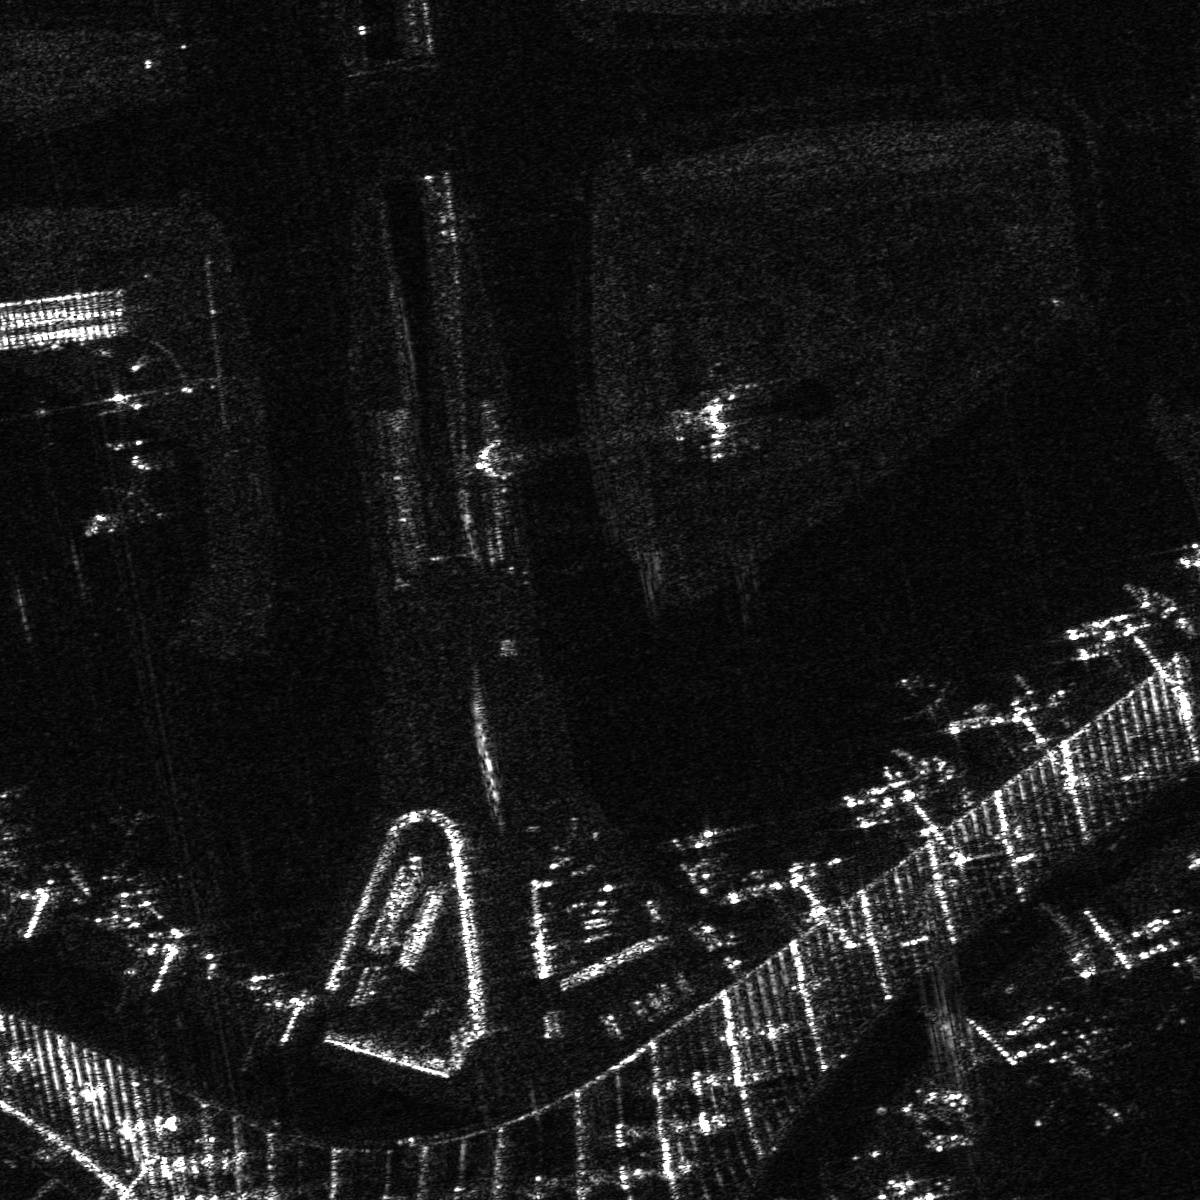Boeing787: (1034, 1033, 1143, 1125), (89, 452, 170, 536), (892, 673, 952, 724)
other: (1157, 938, 1199, 1035)
